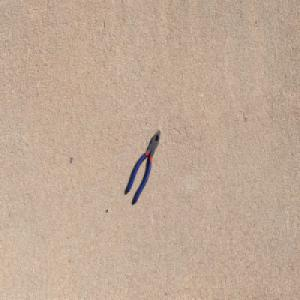Pliers: (125, 128, 161, 205)
